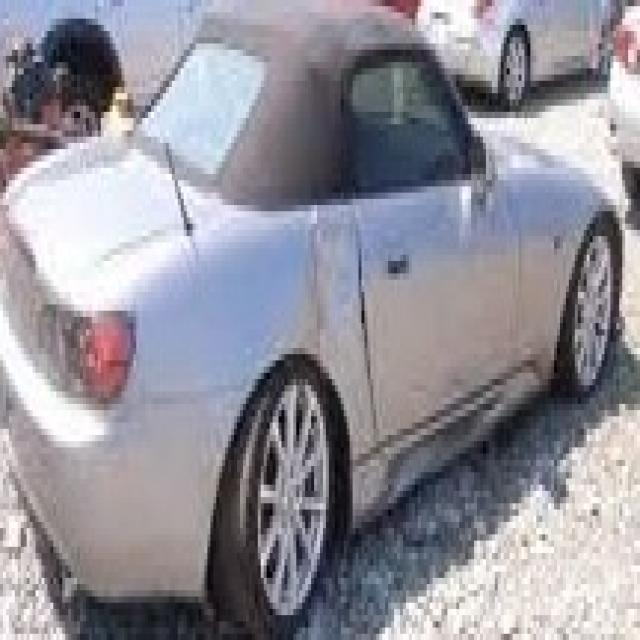minor: (280, 77, 402, 432)
